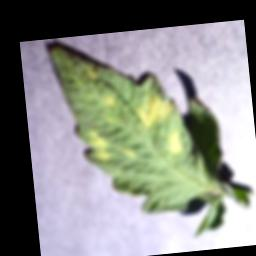Leaf_Mold: (133, 85, 177, 131), (83, 124, 112, 160), (165, 128, 186, 155)
